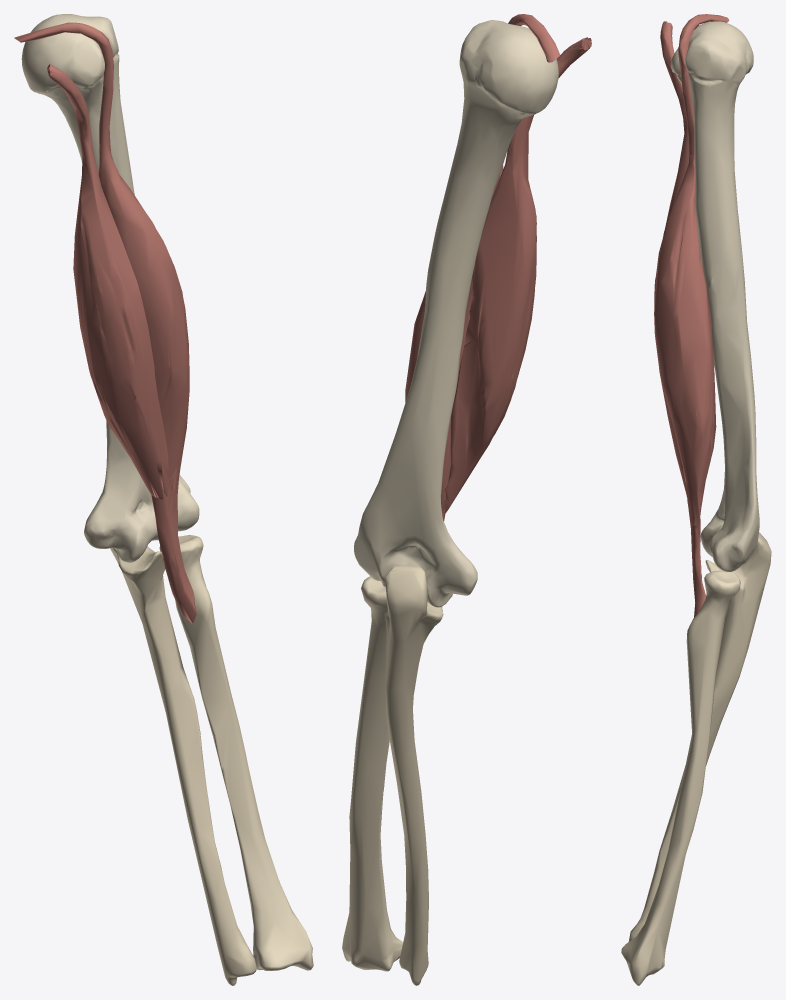
The model's file is arms-left.glb.
3 views of the same model, side by side, from view 1: azimuth 30°, elevation 25°; view 2: azimuth 150°, elevation 25°; view 3: azimuth 270°, elevation 25° (orthographic). The views are drawn at different scales.
Parts seen in each view (by area): view 1: grp1 (×5); view 2: grp1 (×5); view 3: grp1 (×5).
Boxes of the visible parts, x1,y1,x2,y2 form: grp1 (×5): [14, 14, 313, 985]; grp1 (×5): [342, 14, 591, 985]; grp1 (×5): [621, 14, 771, 985].
Size of the model in its own units: 0.754 by 2.8 by 0.4333.
